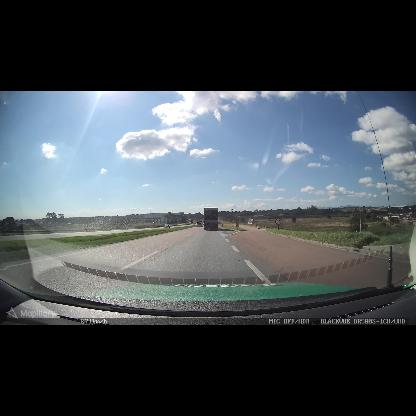O-MP: (236, 219, 239, 227)
R-19: (275, 219, 281, 225)
